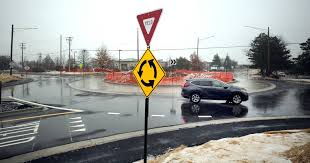roundabout: (131, 49, 169, 98)
yield: (135, 8, 166, 45)
